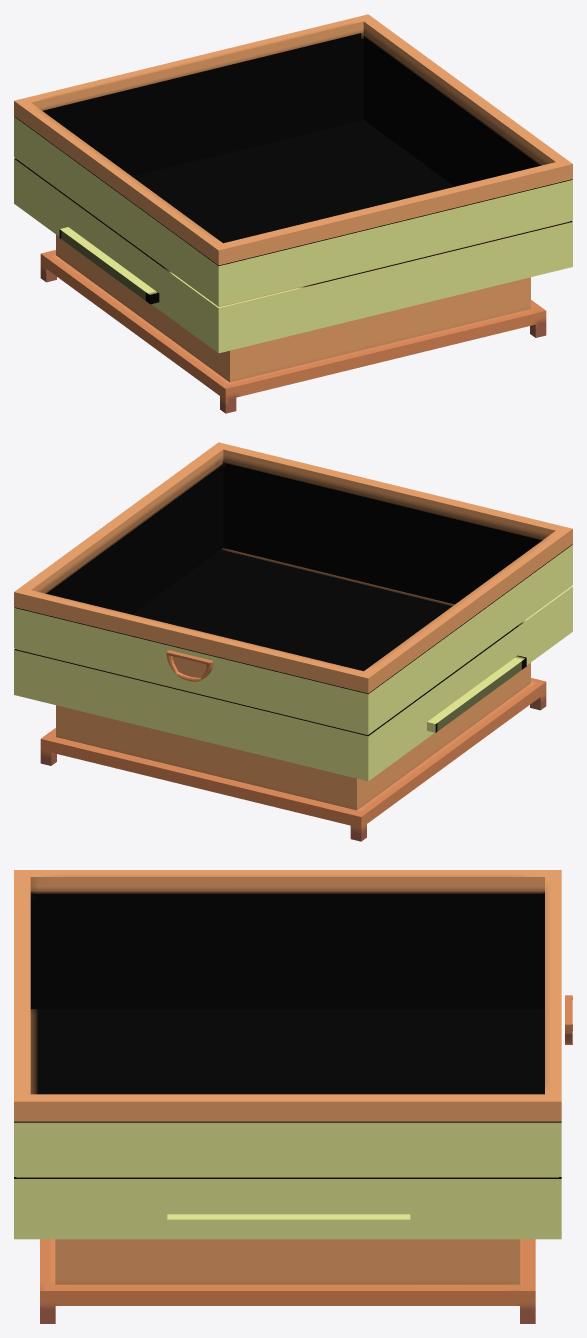
Rendered from HoneyBoxBase.fbx.
The picture shows the model from 3 angles, top to bottom: view 1: azimuth 30°, elevation 25°; view 2: azimuth 150°, elevation 25°; view 3: azimuth 270°, elevation 25°; orthographic projection. The views are drawn at different scales.
Visible parts, largest first — view 1: Cube, Handle2; view 2: Cube, Handle2, CentralHandle; view 3: Cube, Handle1.
Boxes of the visible parts, x1=… form: Cube: x1=14, y1=14, x2=572, y2=413; Handle2: x1=59, y1=227, x2=159, y2=304; Cube: x1=14, y1=442, x2=572, y2=841; Handle2: x1=427, y1=655, x2=526, y2=732; CentralHandle: x1=166, y1=650, x2=213, y2=681; Cube: x1=14, y1=870, x2=561, y2=1323; Handle1: x1=167, y1=1214, x2=410, y2=1231.
Size of the model in its own units: 148 by 66.15 by 144.
